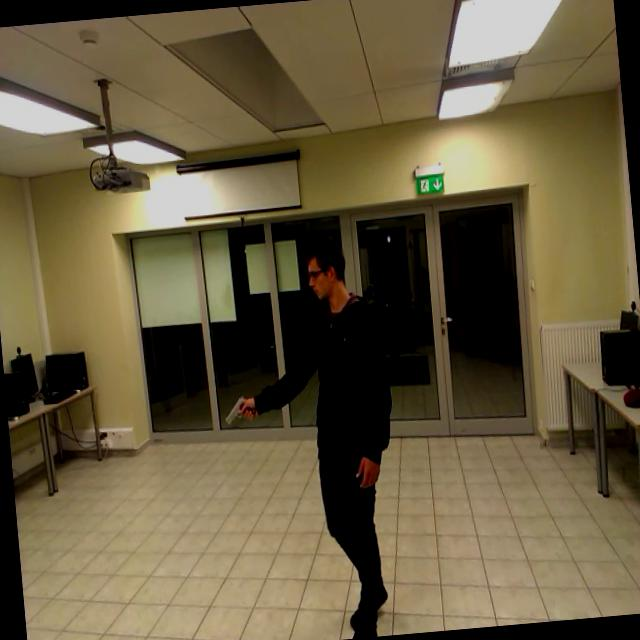handgun: (218, 384, 258, 450)
